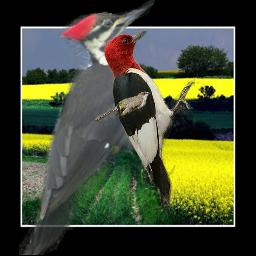Cuckoo: (95, 91, 151, 121)
Woodpecker: (19, 0, 164, 255), (102, 27, 195, 209)
